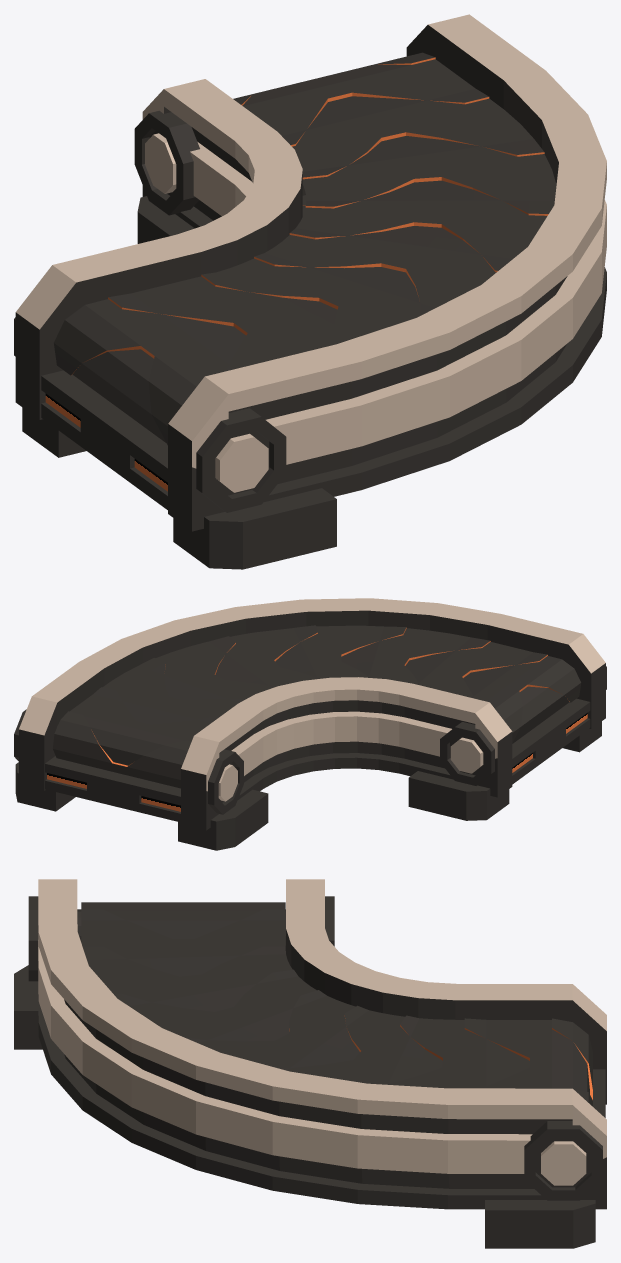
Rendered from Conveyor_L.fbx.
3 views of the same model, one above another, from view 1: azimuth 30°, elevation 25°; view 2: azimuth 150°, elevation 25°; view 3: azimuth 270°, elevation 25° (orthographic). The views are drawn at different scales.
Parts seen in each view (by area): view 1: Conveyor.L, Belt.L; view 2: Conveyor.L, Belt.L, Light.L; view 3: Conveyor.L, Belt.L.
Part boxes in pixels (bbox=[...]): Conveyor.L: bbox=[14, 14, 606, 569]; Belt.L: bbox=[54, 52, 556, 445]; Conveyor.L: bbox=[14, 598, 606, 850]; Belt.L: bbox=[52, 625, 581, 788]; Light.L: bbox=[47, 713, 587, 811]; Conveyor.L: bbox=[14, 879, 606, 1248]; Belt.L: bbox=[81, 902, 592, 1106].
Size of the model in its own units: 0.6971 by 0.1732 by 0.6971.
